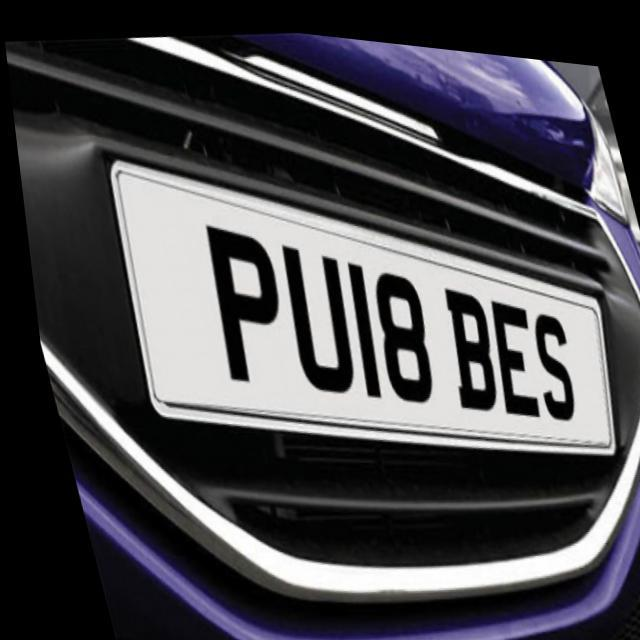license_plate: (101, 96, 620, 525)
